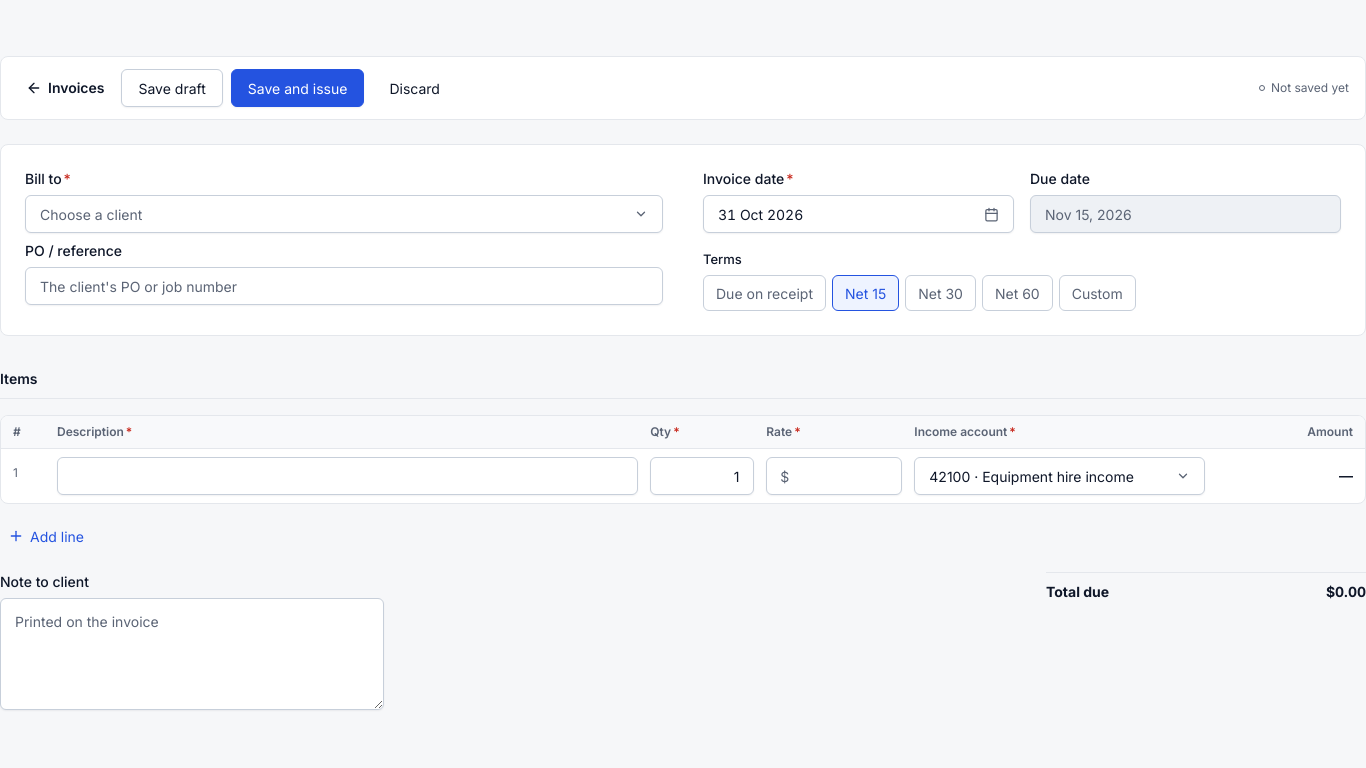
Test case: ManualInvoiceForm (ADR-048) › asks before discarding typed changes
This screenshot has width=1366, height=768.
Type "Hire" into the field named "Line 1 description".
click(348, 476); type("Hire")  # box [57,457,638,495]
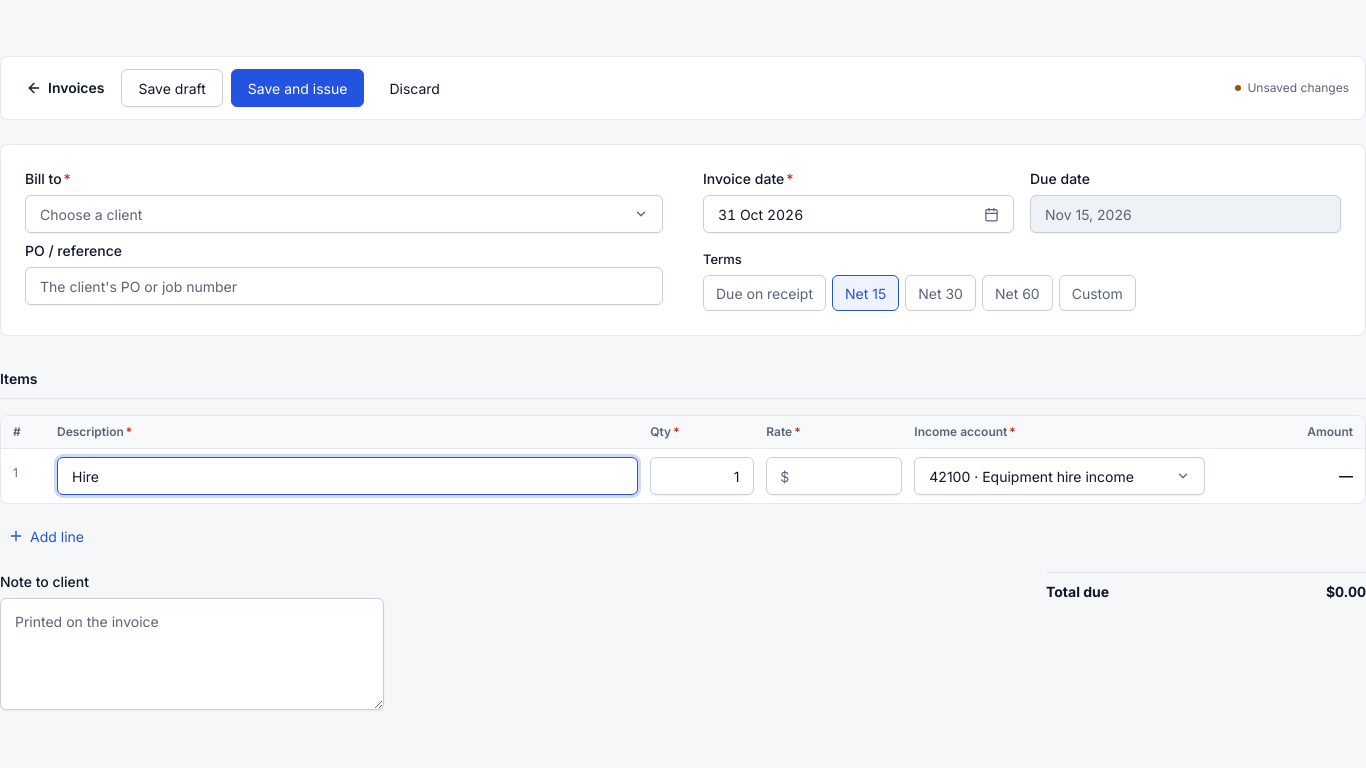
Click the button "Discard".
click(415, 88)  # box [372,69,457,107]
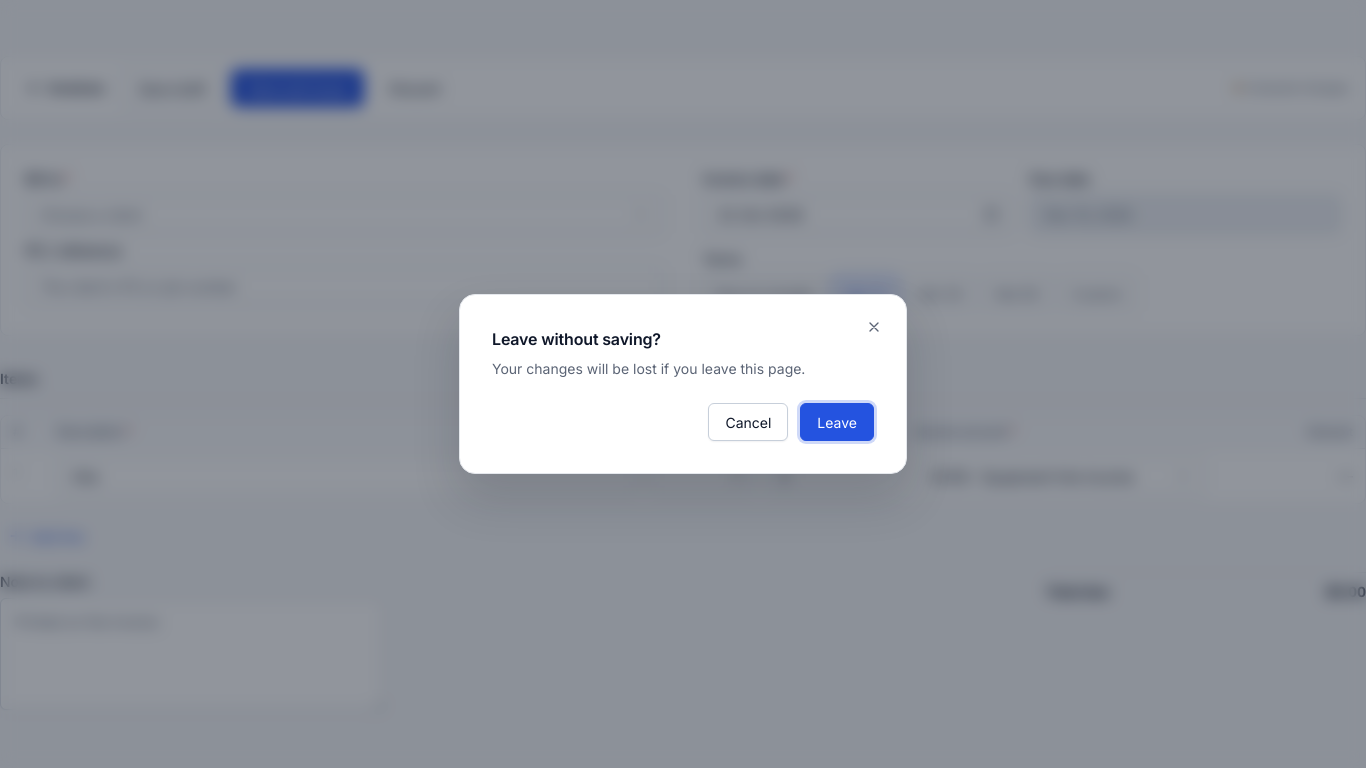
Check: the dialog is shown, box [459,294,907,474]
